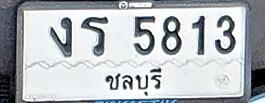1: (191, 15, 205, 54)
3: (214, 14, 236, 54)
5: (134, 15, 156, 54)
8: (162, 15, 182, 54)
A07: (49, 16, 72, 56)
A35: (80, 16, 108, 56)
CBI: (101, 66, 162, 98)
